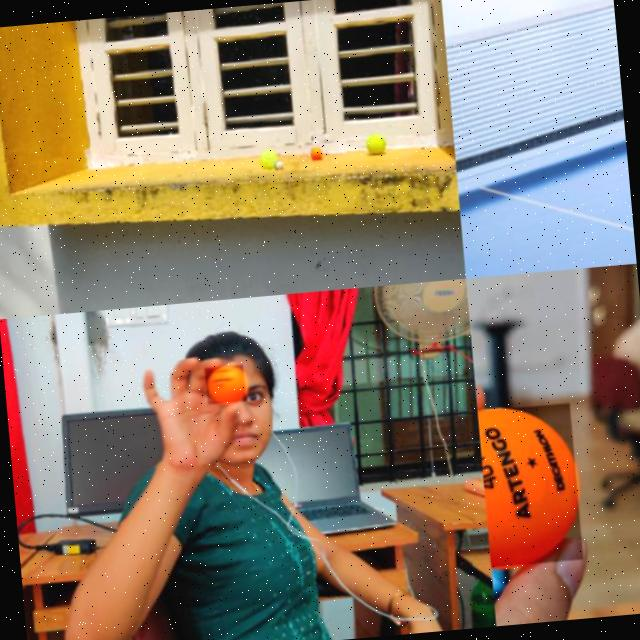ping-pong-ball: (477, 402, 585, 569), (205, 364, 248, 405), (310, 147, 322, 160)
